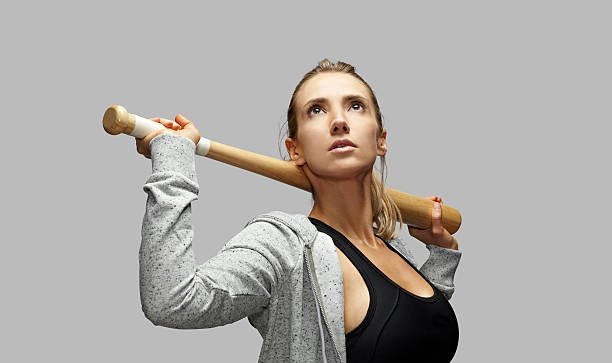bita: (98, 106, 464, 234)
